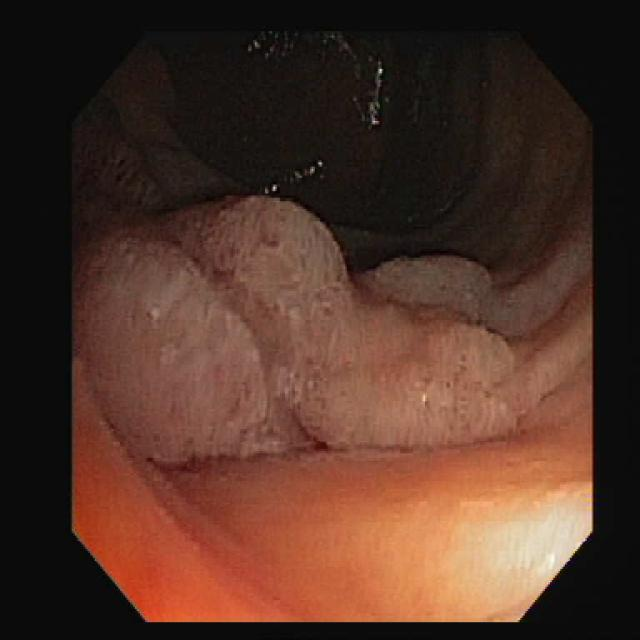tumor: (77, 196, 517, 464)
